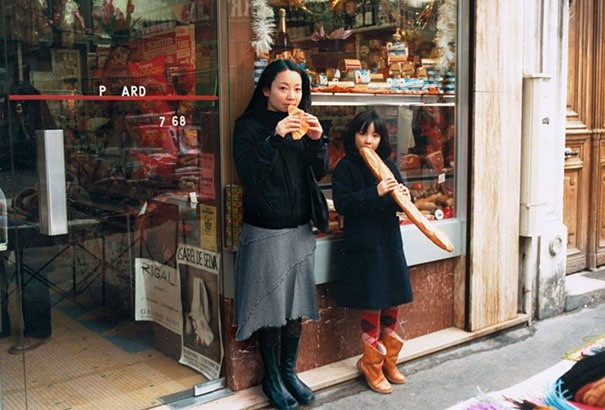face_no_mask: (259, 59, 309, 111), (342, 111, 392, 158)
